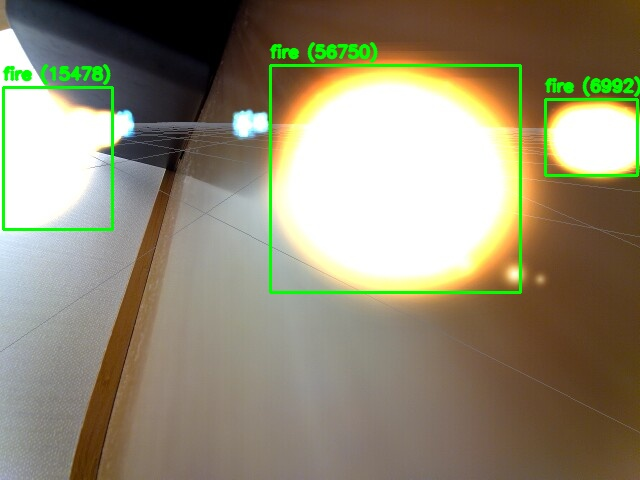fire: (270, 65, 520, 292), (3, 87, 112, 229), (545, 99, 637, 175)
